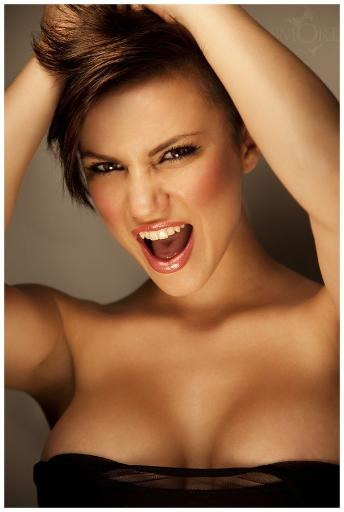left_eye: (156, 144, 205, 167)
left_lip_corner: (185, 219, 198, 237)
right_eye: (89, 162, 128, 180)
right_lip_corner: (132, 227, 142, 242)
